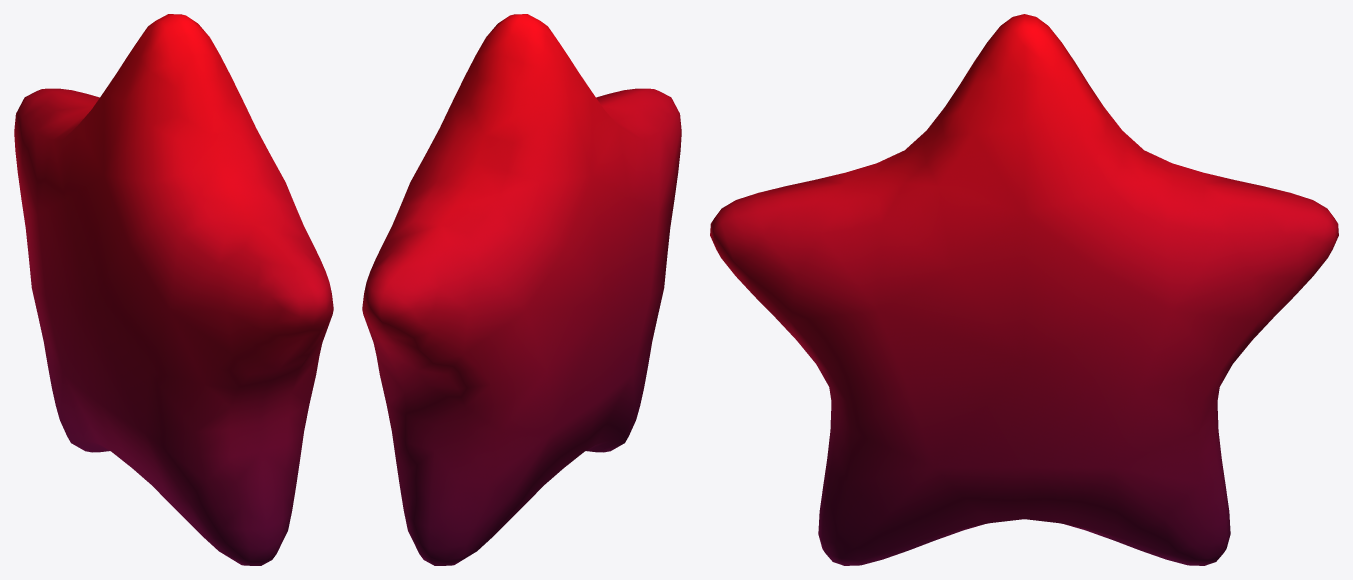
File: Star_3.fbx
3 renders of one model, left to right at view 1: azimuth 30°, elevation 25°; view 2: azimuth 150°, elevation 25°; view 3: azimuth 270°, elevation 25°, orthographic. The views are drawn at different scales.
Parts seen in each view (by area): view 1: Stars_3; view 2: Stars_3; view 3: Stars_3.
Part boxes in pixels (x1,y1,x2,y2): Stars_3: (14, 14, 333, 565); Stars_3: (362, 14, 681, 565); Stars_3: (710, 14, 1338, 565).
Bounding box in the file's own units: 49.2 × 136 × 142.
